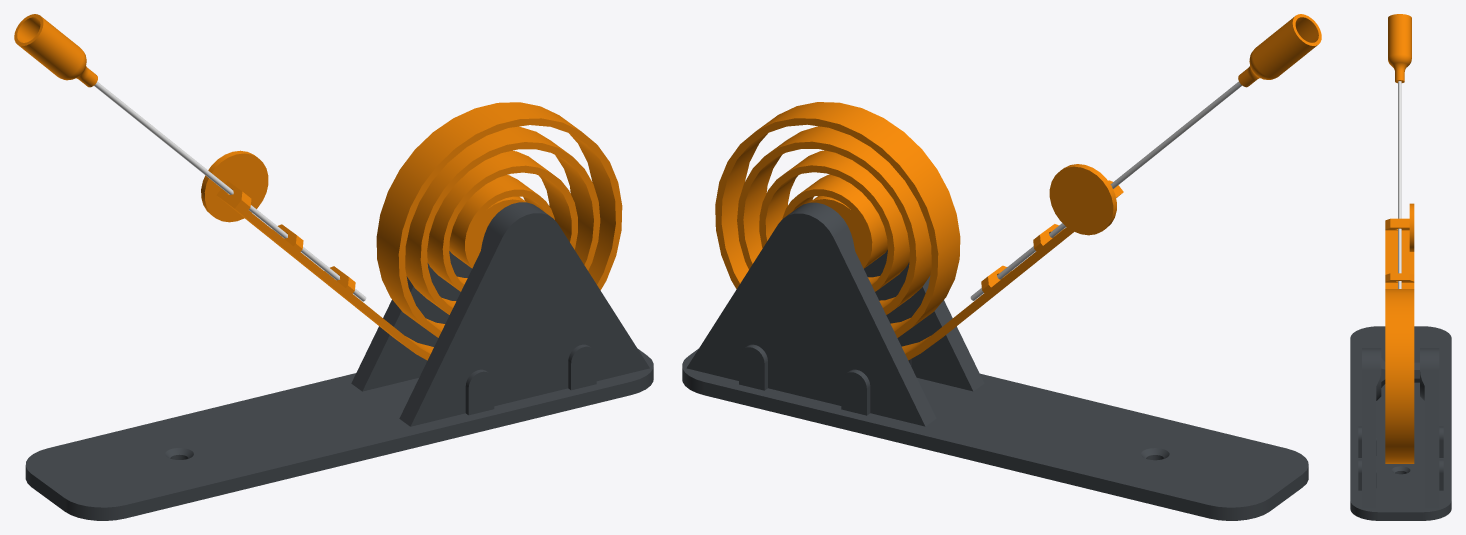
The model's file is pounce-a-pult.glb.
3 renders of one model, left to right at view 1: azimuth 30°, elevation 25°; view 2: azimuth 150°, elevation 25°; view 3: azimuth 270°, elevation 25°, orthographic. The views are drawn at different scales.
Parts seen in each view (by area): view 1: =>[0:1:1:5], =>[0:1:1:7], =>[0:1:1:6], =>[0:1:1:4], =>[0:1:1:3], =>[0:1:1:8]; view 2: =>[0:1:1:5], =>[0:1:1:7], =>[0:1:1:4], =>[0:1:1:6], =>[0:1:1:3], =>[0:1:1:8]; view 3: =>[0:1:1:5], =>[0:1:1:7], =>[0:1:1:6], =>[0:1:1:4], =>[0:1:1:3], =>[0:1:1:8].
Part boxes in pixels (<box>): =>[0:1:1:5]: <box>25,344,653,520</box>; =>[0:1:1:7]: <box>201,102,622,360</box>; =>[0:1:1:6]: <box>399,202,649,426</box>; =>[0:1:1:4]: <box>351,251,471,391</box>; =>[0:1:1:3]: <box>14,14,97,87</box>; =>[0:1:1:8]: <box>94,81,366,301</box>; =>[0:1:1:5]: <box>682,344,1308,520</box>; =>[0:1:1:7]: <box>715,102,1123,360</box>; =>[0:1:1:4]: <box>686,202,936,426</box>; =>[0:1:1:6]: <box>864,250,984,391</box>; =>[0:1:1:3]: <box>1238,14,1321,87</box>; =>[0:1:1:8]: <box>970,81,1241,300</box>; =>[0:1:1:5]: <box>1350,326,1451,520</box>; =>[0:1:1:7]: <box>1385,203,1414,463</box>; =>[0:1:1:6]: <box>1362,348,1419,508</box>; =>[0:1:1:4]: <box>1420,348,1439,508</box>; =>[0:1:1:3]: <box>1388,14,1411,83</box>; =>[0:1:1:8]: <box>1398,81,1401,288</box>.
Bounding box in the file's own units: 0.1918 × 0.1452 × 0.042.
